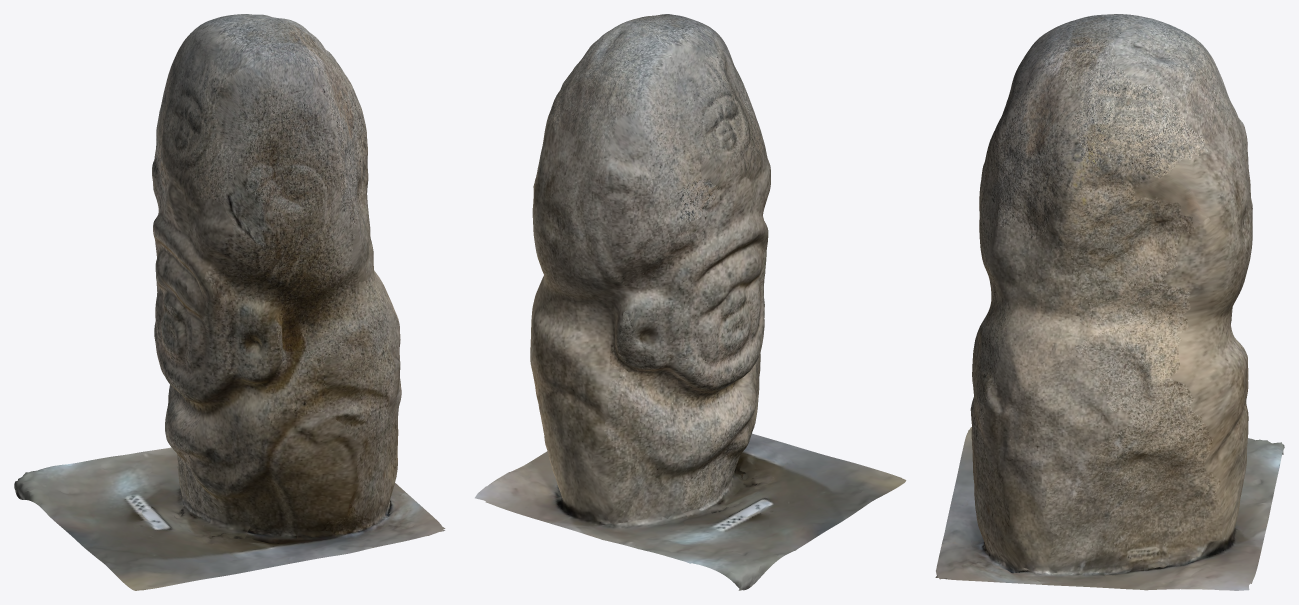
The picture shows the model from 3 angles, left to right: view 1: azimuth 30°, elevation 25°; view 2: azimuth 150°, elevation 25°; view 3: azimuth 270°, elevation 25°; orthographic projection. The views are drawn at different scales.
Visible parts, largest first — view 1: Object; view 2: Object; view 3: Object.
Boxes of the visible parts, bbox=[...] form: Object: bbox=[14, 14, 445, 590]; Object: bbox=[475, 14, 906, 590]; Object: bbox=[935, 14, 1284, 590].
Size of the model in its own units: 0.8357 by 1.24 by 0.7458.
Materials: 1 (1 with a texture image).
